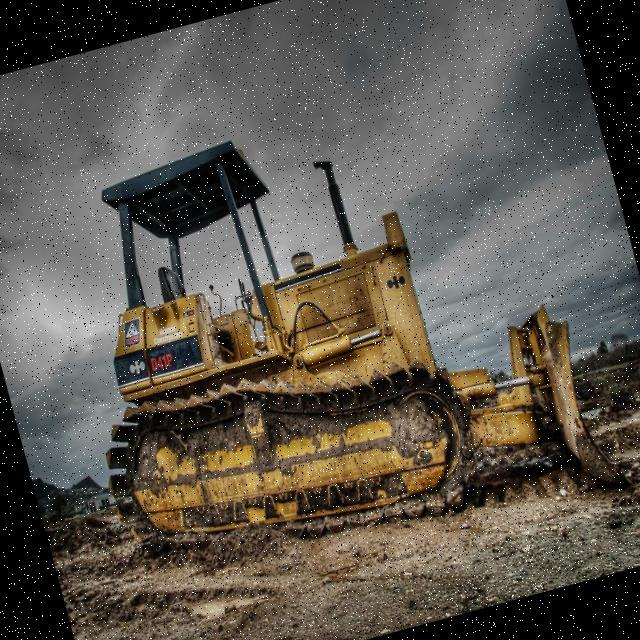Bulldozer: (25, 51, 640, 632)
